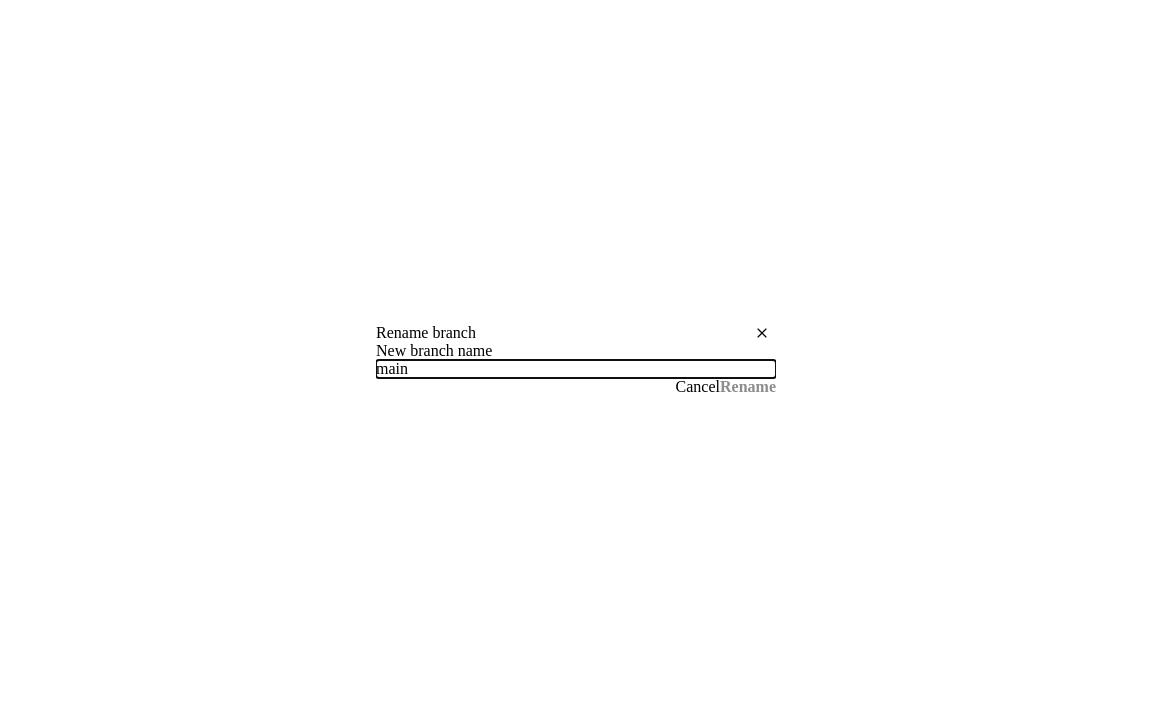
Scenario: DialogProvider prompt › disables submit while the value is empty or unchanged
The width and height of the screenshot is (1152, 720).
Expected: the button "Rename" is disabled, left=720, top=378, right=776, bottom=396
Clear the field labelled "New branch name" at (576, 369), box left=376, top=360, right=776, bottom=378
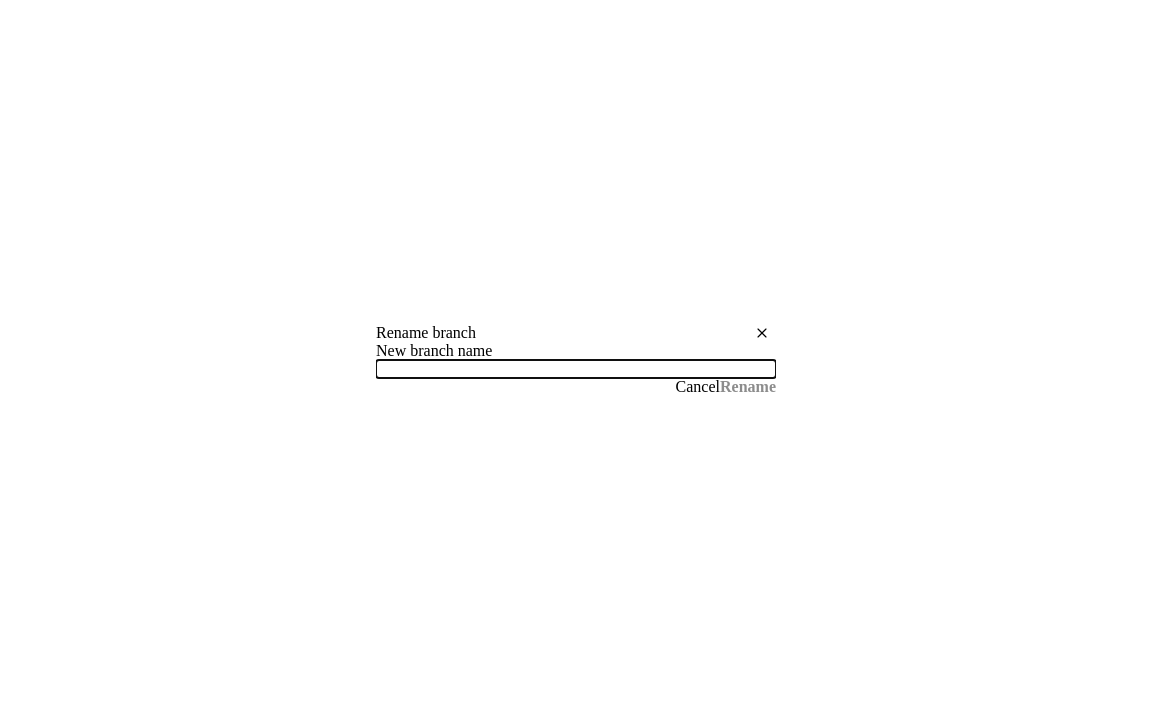
Expected: the button "Rename" is disabled, left=720, top=378, right=776, bottom=396
Type "develop" into the field labelled "New branch name" at (576, 369), box left=376, top=360, right=776, bottom=378
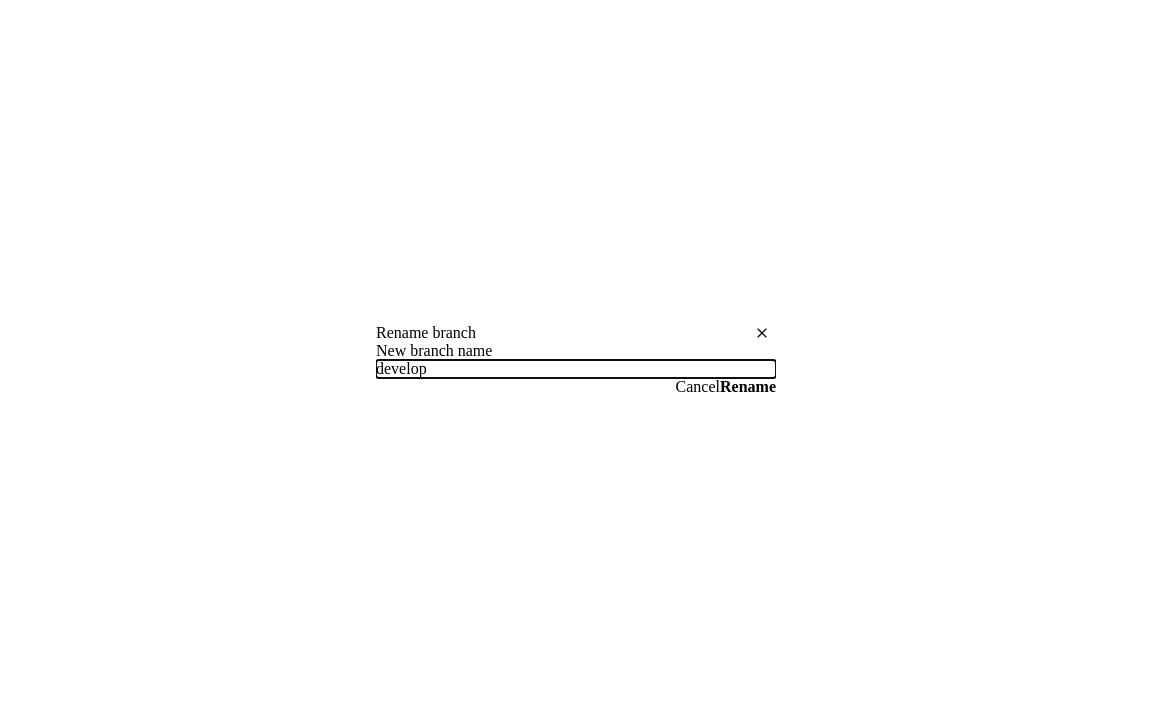
Expected: the button "Rename" is enabled, left=720, top=378, right=776, bottom=396
